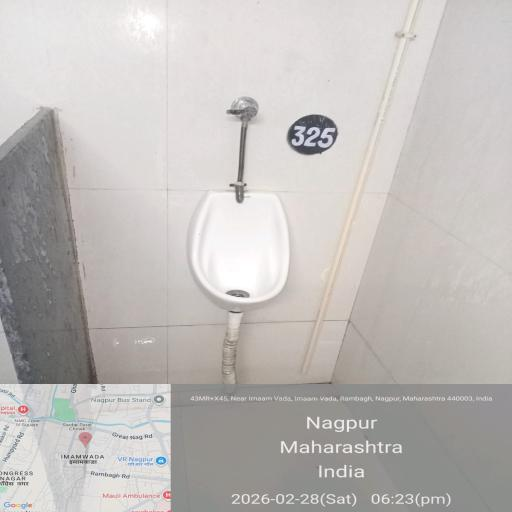clean_floor: (28, 13, 428, 199), (11, 358, 477, 512)
clean_urinal: (165, 202, 357, 404)
